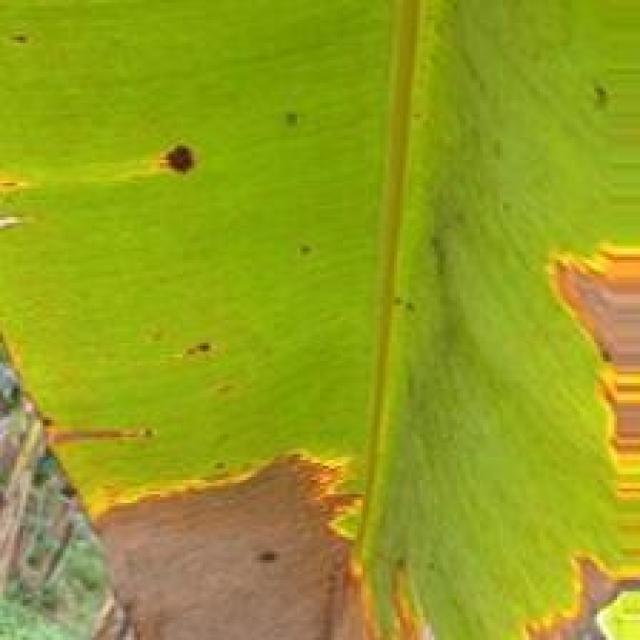Bacterial_spot: (80, 445, 437, 640), (537, 226, 640, 494), (508, 537, 640, 640), (130, 127, 226, 199), (0, 168, 77, 240), (34, 416, 172, 452), (169, 328, 228, 381), (5, 28, 52, 58)
